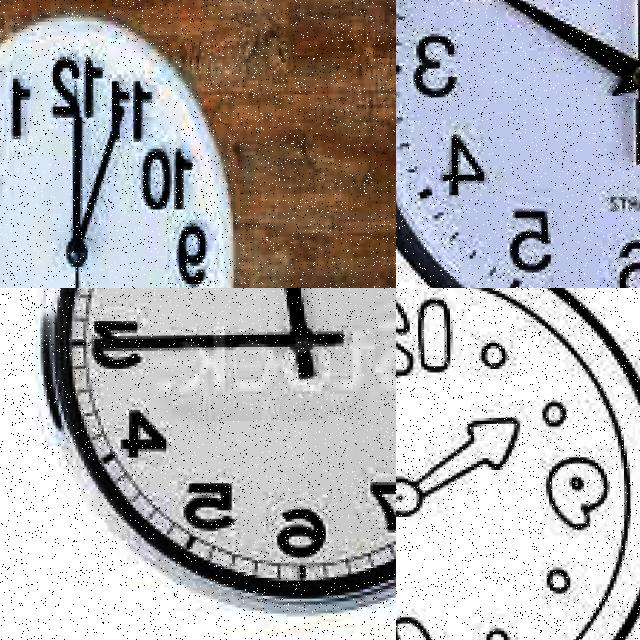Clocks-images: (39, 289, 397, 619), (397, 289, 640, 640), (397, 1, 640, 289), (1, 17, 232, 289)
